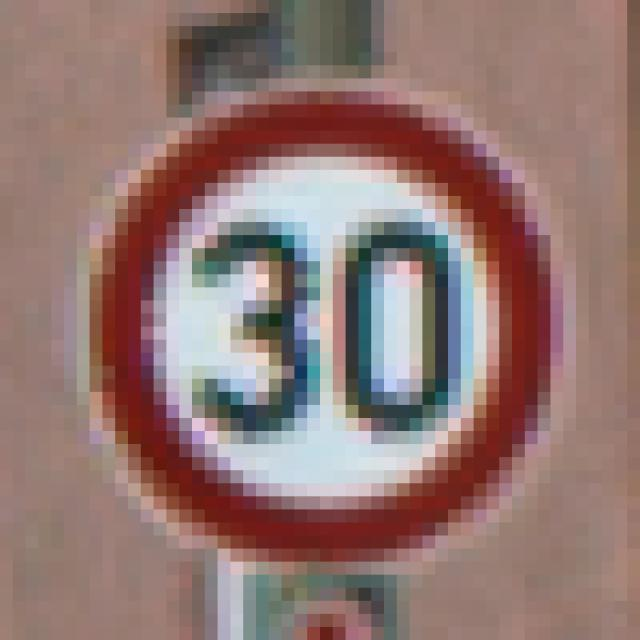Speed Limit -30-: (58, 59, 570, 568)
